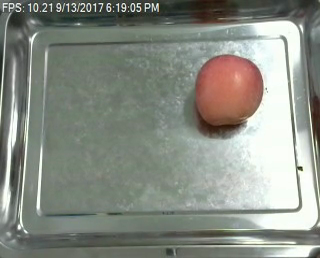Apple: (194, 54, 265, 128)
